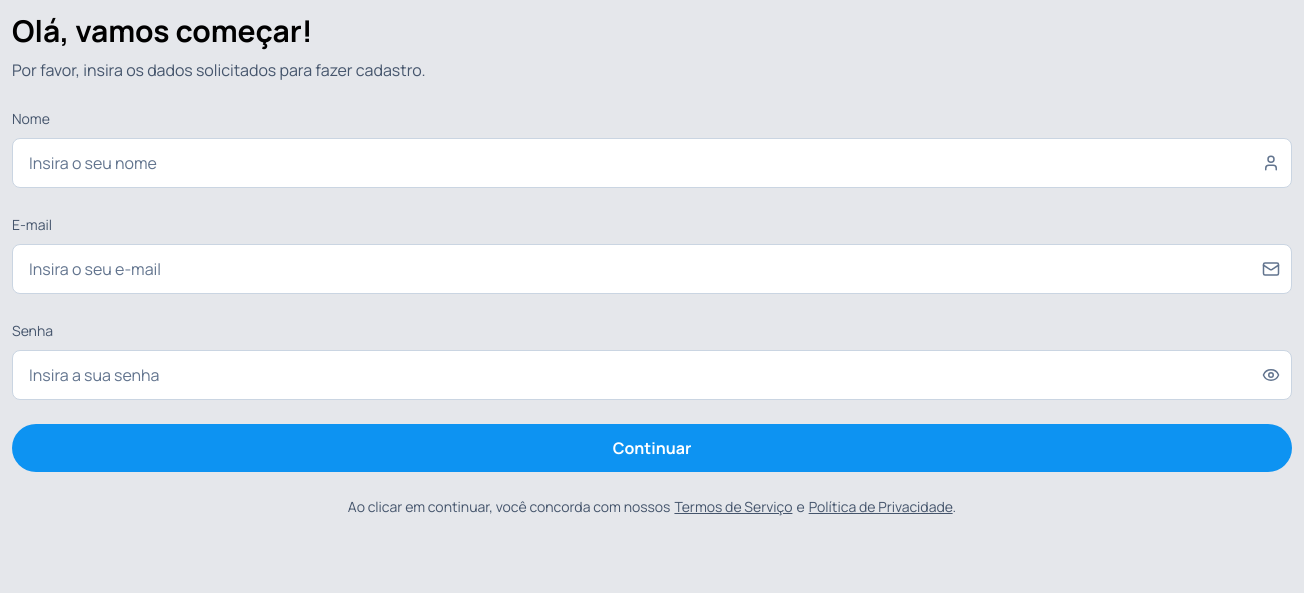
RegisterForm Component › should show validation errors when fields are empty
Click the button "Continuar" at (652, 448), box 12,424 -> 1292,472
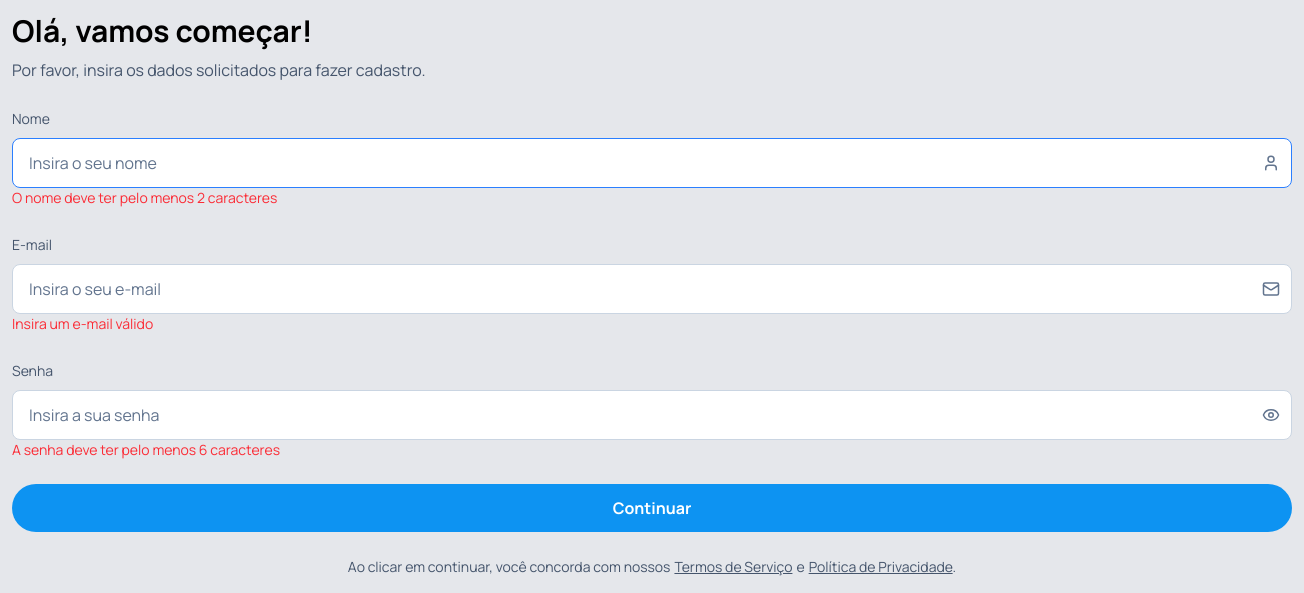
expect the text "O nome deve ter pelo menos 2 caracteres" is shown: met, box 12,188 -> 277,206
expect the text "Insira um e-mail válido" is shown: met, box 12,314 -> 153,332
expect the text "A senha deve ter pelo menos 6 caracteres" is shown: met, box 12,440 -> 280,458
